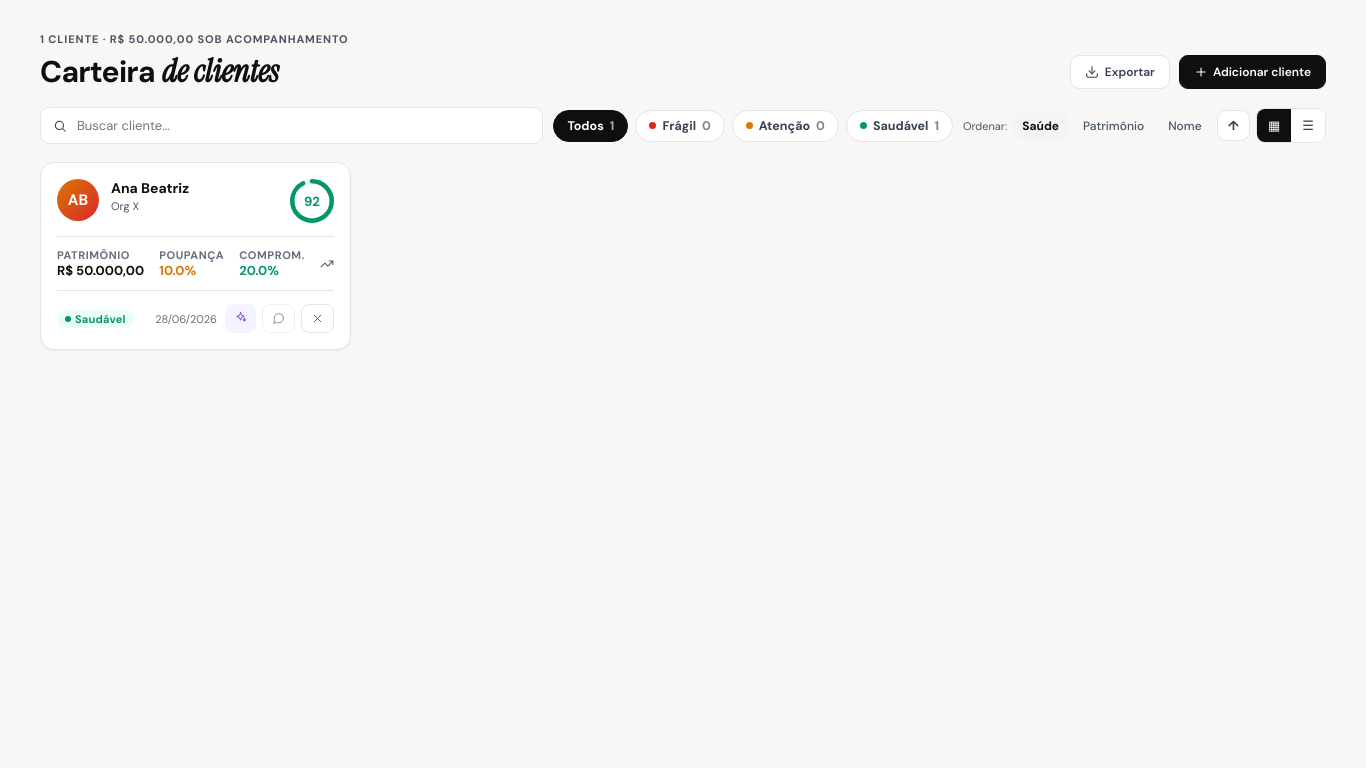
Scenario: <ConsultantClientsPage> — Avaliar com IA › abre o drawer de avaliação ao clicar em 'Avaliar com IA'
expect the text "Ana Beatriz" is shown: met, box [111,179,189,197]
What coordinates should you click on to do the following:
click the button named "Avaliar com IA"
I would click on:
 (240, 319)
Its box is [225,304,256,333].
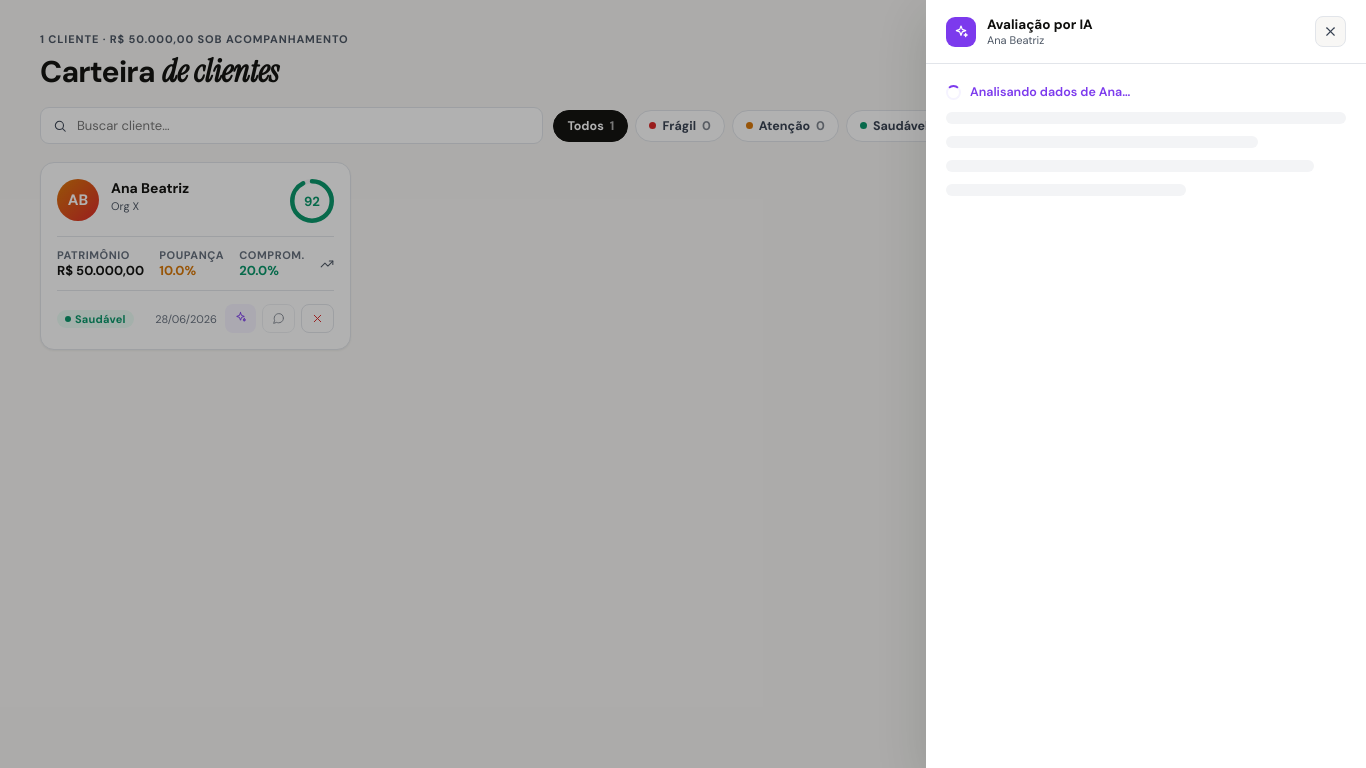
expect the text "Ana Beatriz" is shown: met, box [987,33,1044,47]
expect the text "Analisando dados de Ana…" is shown: met, box [946,84,1130,100]
